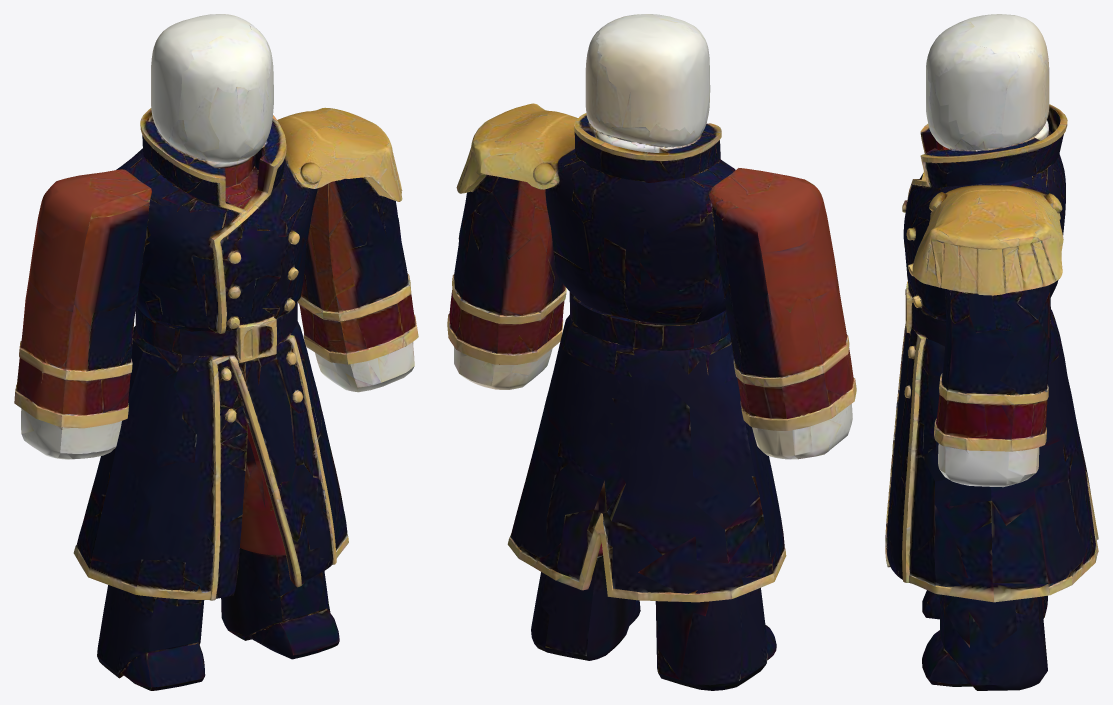
Rendered from commander.gltf.
3 renders of one model, left to right at view 1: azimuth 30°, elevation 25°; view 2: azimuth 150°, elevation 25°; view 3: azimuth 270°, elevation 25°, orthographic. The views are drawn at different scales.
Size of the model in its own units: 1.22 by 1.9 by 0.5964.
Materials: 1 (1 with a texture image).
